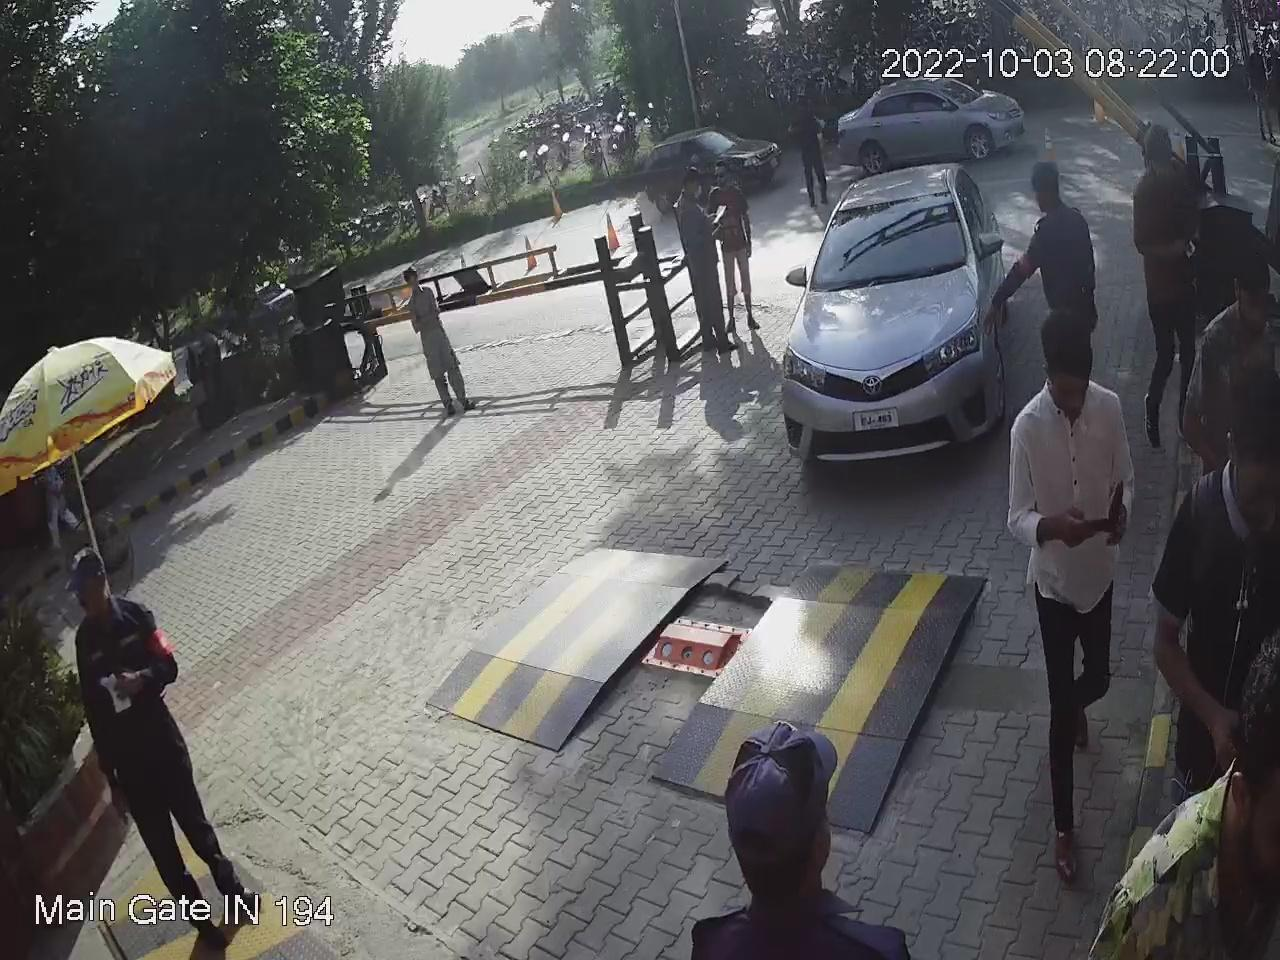windshield: (805, 175, 973, 301)
